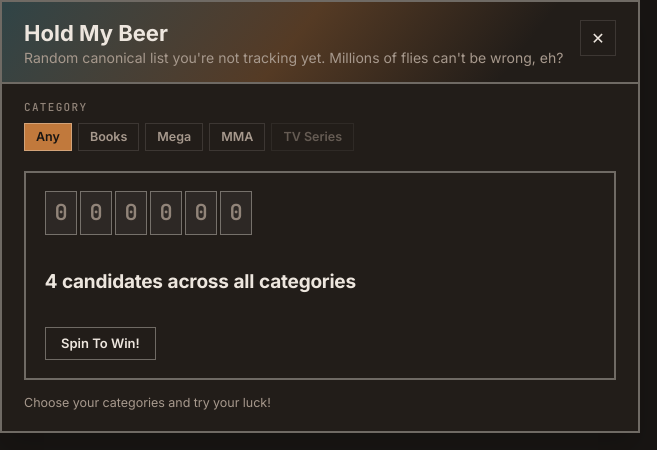
Test: the shelves › say when nothing is left on a shelf, and dim it
This screenshot has width=657, height=450.
expect the button "Spin To Win!" is shown: met, box [45, 328, 156, 360]
Hover over the button "TV Series" at (313, 137), box [271, 123, 354, 152]
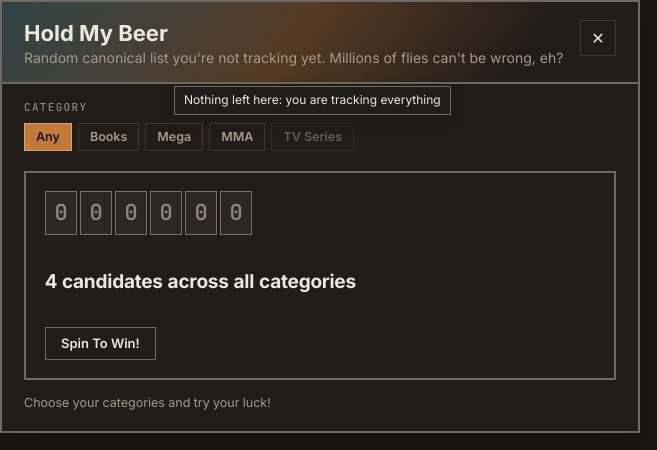
Move the pointer off the button "TV Series", box [271, 123, 354, 152]
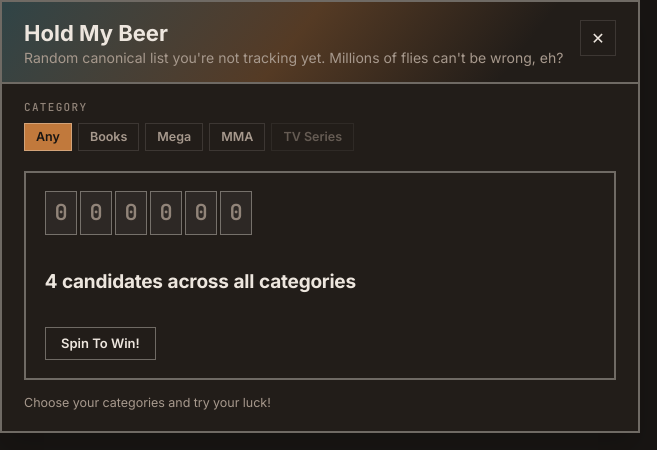
Hover over the button "Books" at (109, 137), box [78, 123, 139, 152]
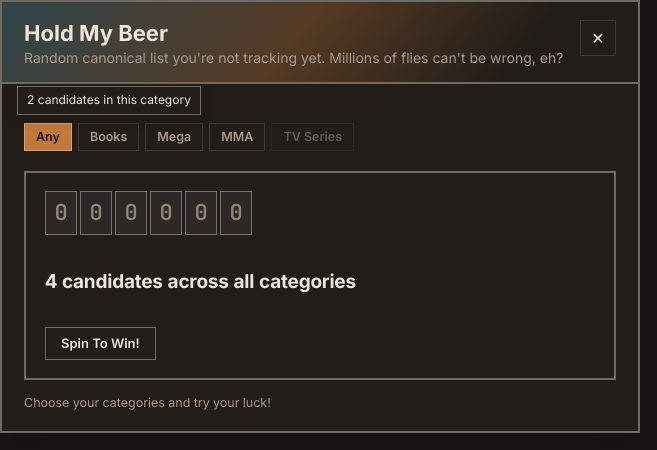
Move the pointer off the button "Books", box [78, 123, 139, 152]
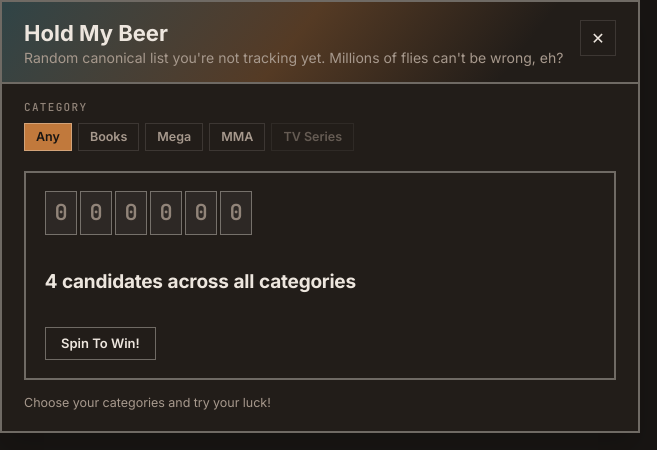
Click the button "TV Series". click: (313, 137)
box: [271, 123, 354, 152]
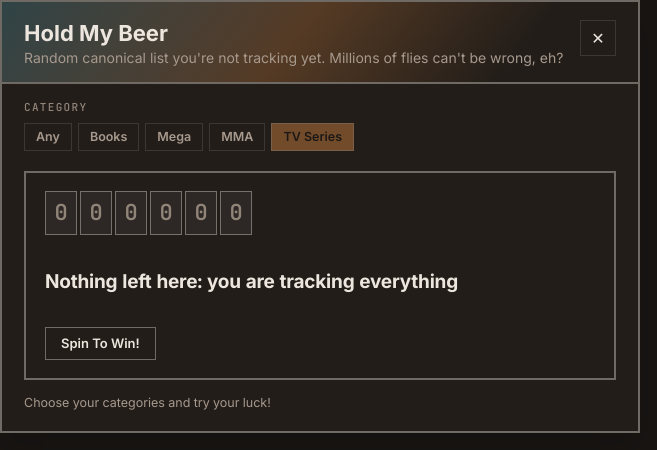
expect the text "Nothing left here: you are tracking everything" is shown: met, box [45, 270, 458, 293]
